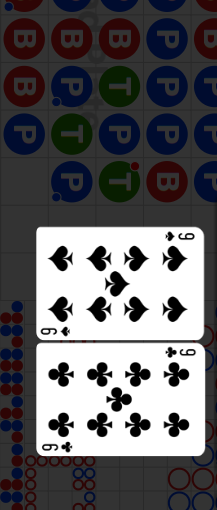9C: (41, 439, 75, 453)
9S: (163, 230, 196, 243)
